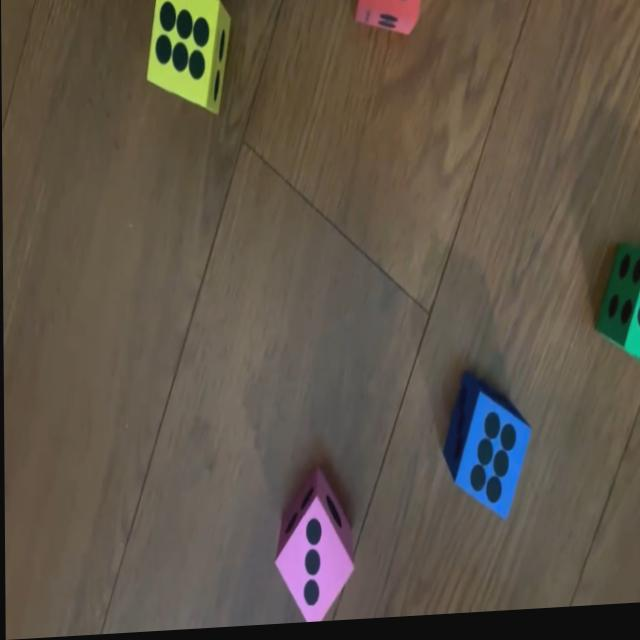cube: (443, 379, 534, 529), (594, 246, 640, 375), (352, 0, 425, 44)
